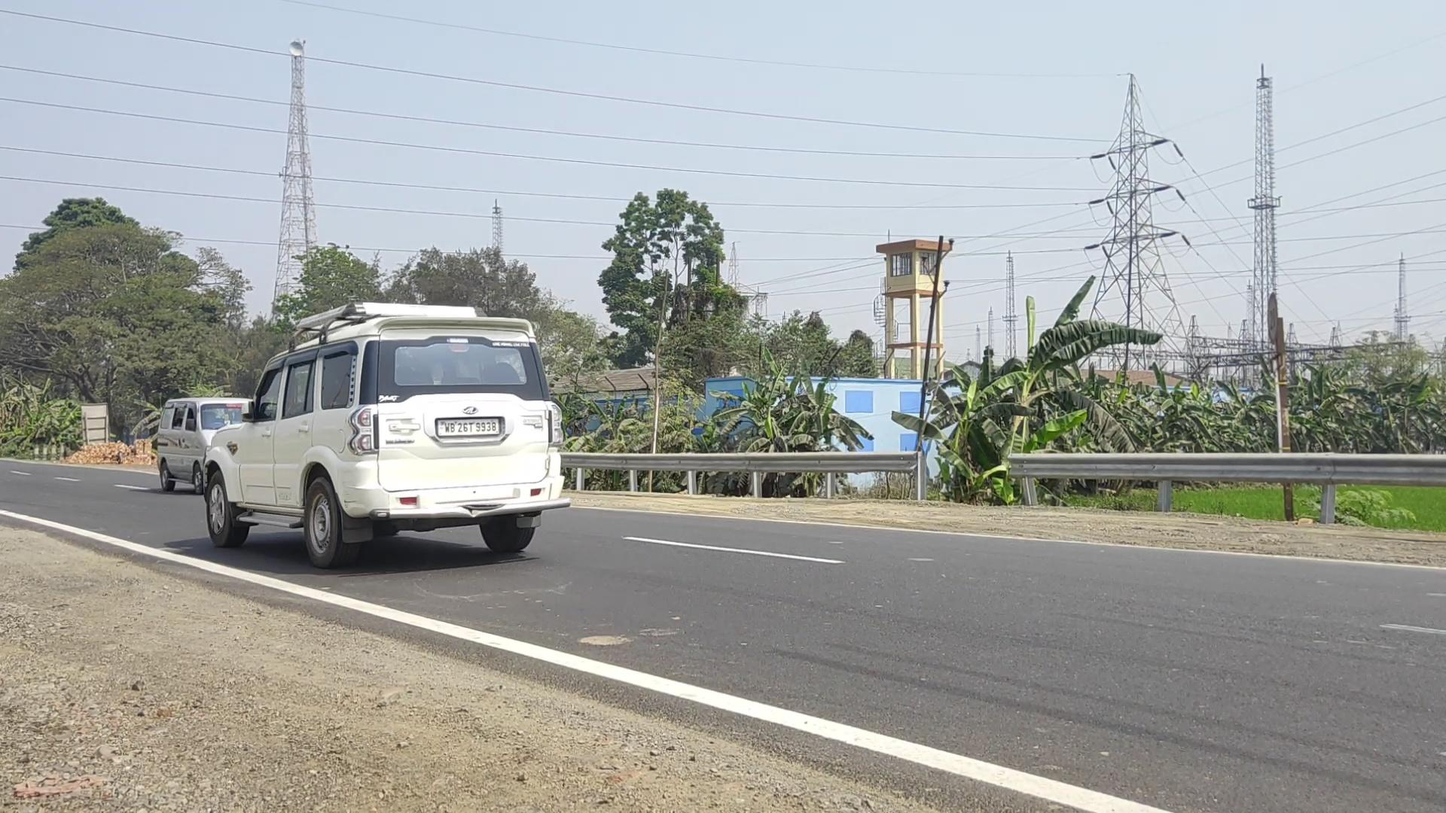car: (203, 301, 571, 570)
van: (156, 397, 264, 497)
